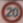20 km speed: (1, 1, 23, 22)
